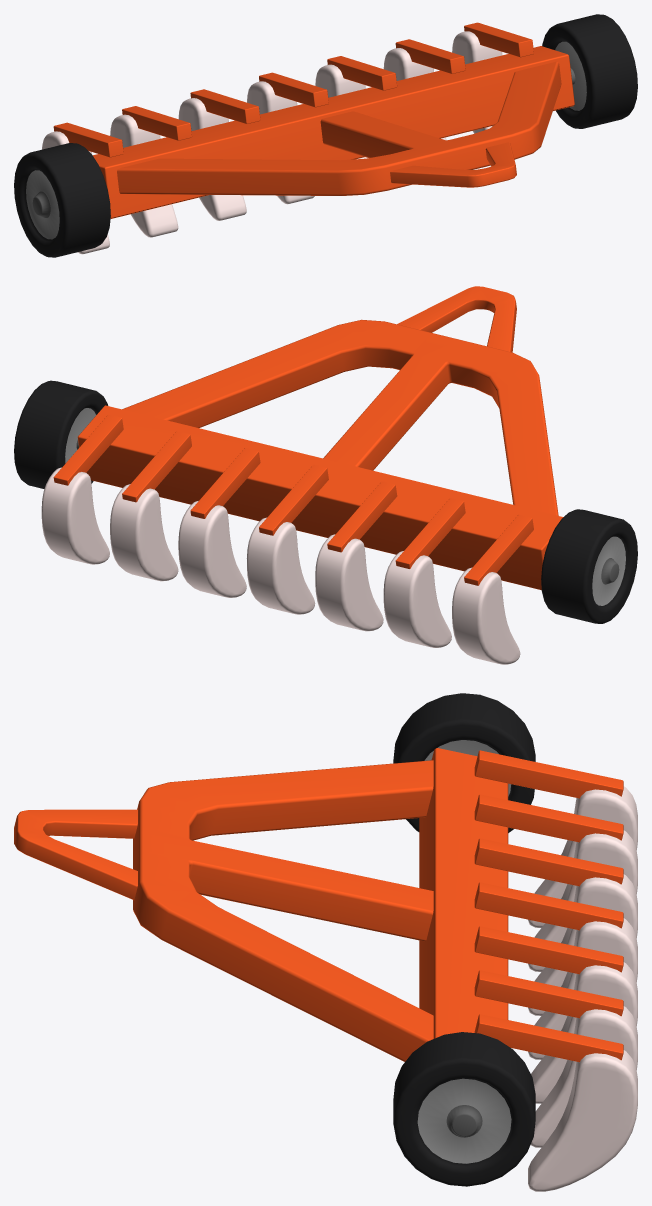
The model's file is Farm_8_Tractor_Plow_1.glb.
3 renders of one model, top to bottom at view 1: azimuth 30°, elevation 25°; view 2: azimuth 150°, elevation 25°; view 3: azimuth 270°, elevation 25°, orthographic. The views are drawn at different scales.
Visible parts, largest first — view 1: Farm_8_Tractor_Plow_1; view 2: Farm_8_Tractor_Plow_1; view 3: Farm_8_Tractor_Plow_1.
Part boxes in pixels (bbox=[...]): Farm_8_Tractor_Plow_1: bbox=[14, 14, 637, 257]; Farm_8_Tractor_Plow_1: bbox=[14, 286, 637, 664]; Farm_8_Tractor_Plow_1: bbox=[14, 693, 637, 1191].
Size of the model in its own units: 4.21 by 1.21 by 2.99.
1 material, 1 textured.
